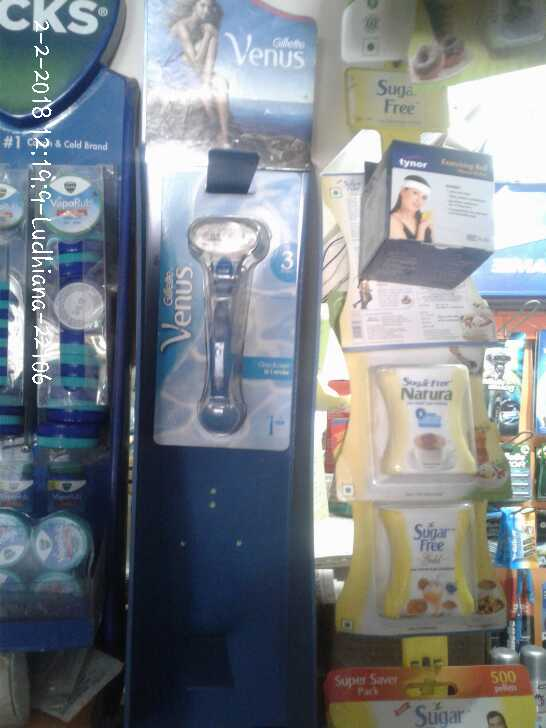beauty: (161, 165, 294, 446)
pharmacy: (32, 511, 87, 572), (53, 274, 105, 331), (33, 565, 77, 620)
